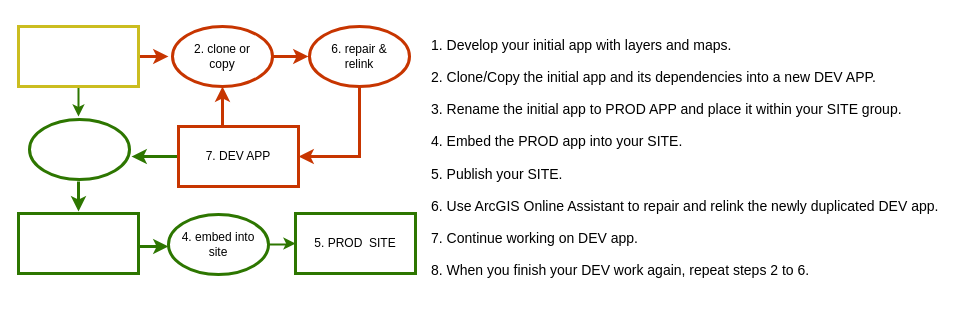
The diagram is 970 pixels wide and 313 high, and some of its shapes have lost their labels. Each missing label, with the centre of its shape:
"1. INIT APP" belongs at (78,56).
"3. PROD APP" belongs at (78,243).
"3. rename & regroup" belongs at (79,149).
